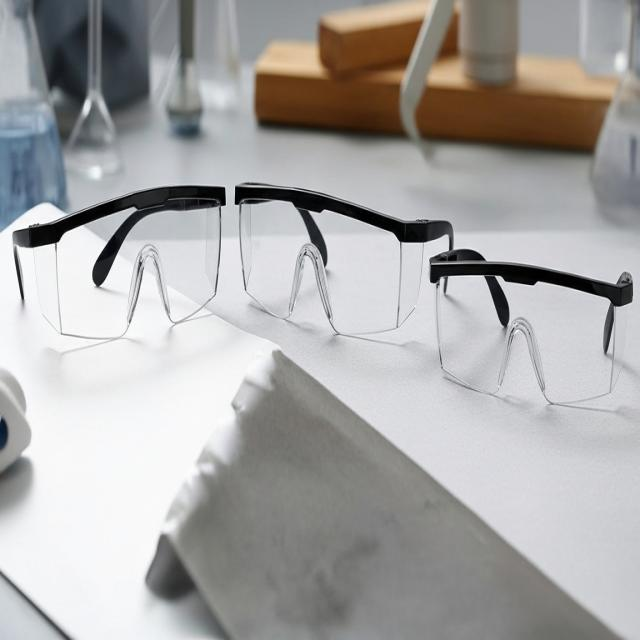oculos-epi: (235, 183, 633, 403), (12, 186, 225, 338)
